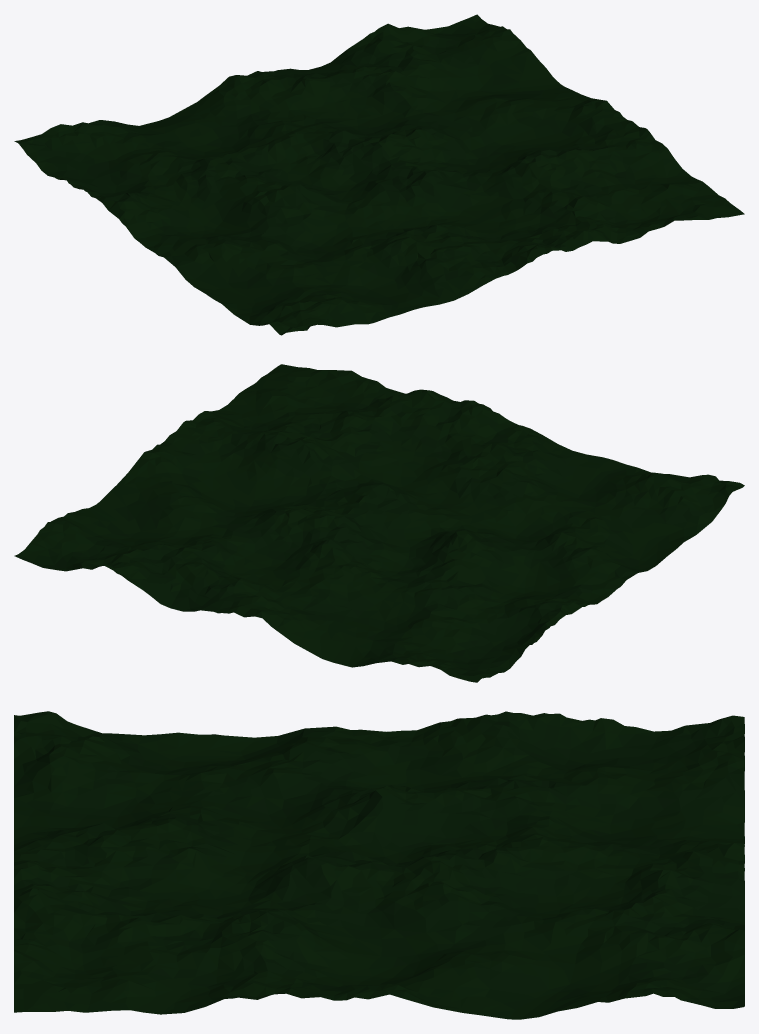
The model's file is turonets.FBX.
The picture shows the model from 3 angles, top to bottom: view 1: azimuth 30°, elevation 25°; view 2: azimuth 150°, elevation 25°; view 3: azimuth 270°, elevation 25°; orthographic projection. The views are drawn at different scales.
Parts seen in each view (by area): view 1: Landscape.006; view 2: Landscape.006; view 3: Landscape.006.
Boxes of the visible parts, x1=… form: Landscape.006: x1=14, y1=14, x2=744, y2=335; Landscape.006: x1=14, y1=364, x2=744, y2=682; Landscape.006: x1=14, y1=711, x2=744, y2=1019.
Bounding box in the file's own units: 78.83 × 7.55 × 78.76.
